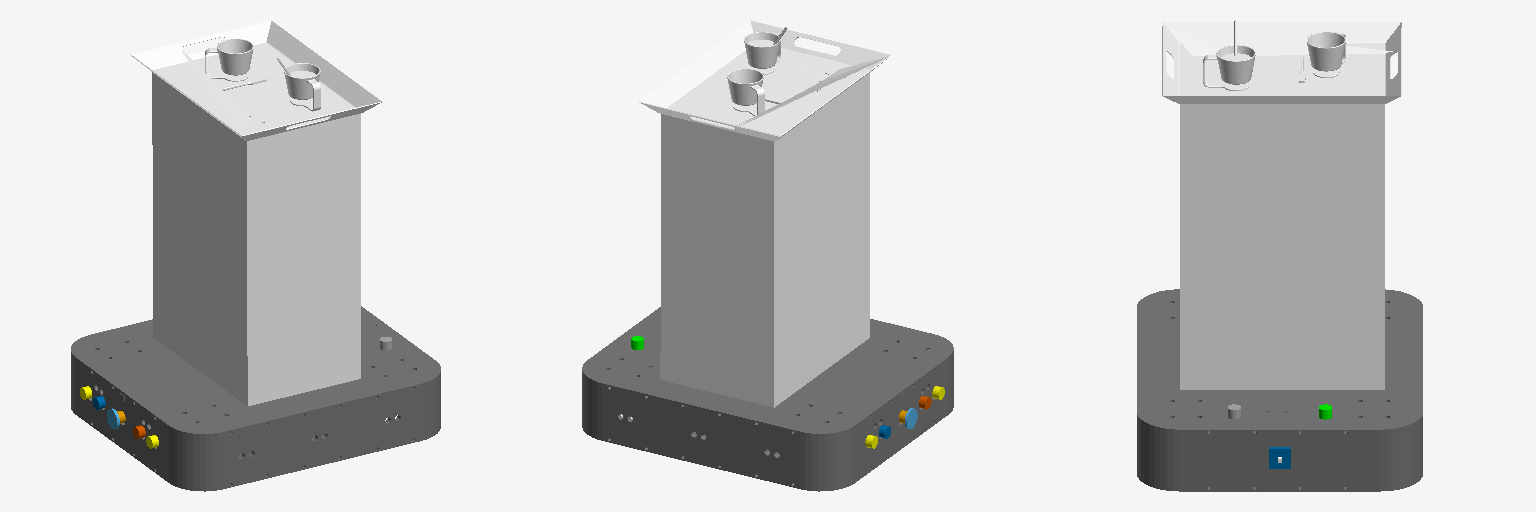
--- What the picture shows (computed from the rendered views, not written in the file) ---
3 views of the same robot in one strip: view 1: azimuth 30°, elevation 25°; view 2: azimuth 150°, elevation 25°; view 3: azimuth 270°, elevation 25° (orthographic).
Robot: DrSina — 31 links, 30 joints (10 continuous, 20 fixed); root link base_footprint; default pose: all joints at 0.
Visible links, largest first — view 1: upper_part_link, base_link; view 2: upper_part_link, base_link; view 3: upper_part_link, base_link.
Link boxes in pixels (box(x1,y1,x2,y2)): upper_part_link: box(131, 20, 381, 405); base_link: box(71, 306, 440, 491); upper_part_link: box(639, 20, 891, 407); base_link: box(582, 307, 953, 491); upper_part_link: box(1162, 20, 1401, 389); base_link: box(1137, 289, 1422, 491).
Size in the robot's own frame: 0.7805 by 0.63 by 0.9746 metres.
2 mesh visuals loaded from 7 distinct referenced files (1 binary STL, 1 Collada DAE); not drawn: 15 (reference not matched to a file when rendering).

The robot description file, URDF, robot "DrSina":
<?xml version="1.0"?>
<robot name="DrSina">

    <gazebo>
        <plugin name="gazebo_ros_control" filename="libgazebo_ros_control.so">
            <robotNamespace>/drsina</robotNamespace>
            <legacyModeNS>true</legacyModeNS>
        </plugin>
    </gazebo>
    <material name="yellow">
                <color rgba="1.0 1.0 0 1.0"/>
    </material>

    <material name="green">
                <color rgba="0.0 1.0 0 1.0"/>
    </material>

    <material name="white">
                <color rgba="1.0 1.0 1.0 1.0"/>
    </material>

<!--base and wheels-->
    
    <link name="base_link">

        <visual>
            <origin rpy="0.0 0 0" xyz="0 0 0"/>
            <geometry>
                <mesh filename="package://drsina_description/models/meshes/chassis2.dae"/>
            </geometry>
            <material name="grey"/>
        </visual>
        <collision>
             <origin rpy="0.0 0 0" xyz="0 0 0"/>
            <geometry>
                <box size="0.750  0.750 0.180"/>
            </geometry>
            <material name="grey"/>
        </collision>
        <inertial>
            <origin xyz="0.0 0.0 0.0" rpy="0.0 0.0 0.0"/>
            <mass value="28.798"/>
            <inertia ixx="15.17158" ixy="0.11133" ixz="-15.7747" iyy="1.61587" iyz="-10.583956" izz="1.3014955"/>
        </inertial>
        
	</link>
    <link name="base_footprint"/>
    <joint name="base_joint" type="fixed">
        <origin xyz="0.0 0.0 0.0" rpy="0.0 0.0 0.0"/>
        <parent link="base_footprint"/>
        <child link="base_link"/>
    </joint>

    

    <link name="Rwheel_link">
        <visual>
            <origin rpy="0 0 0" xyz="0.0 0.0 0.0"/>
            <geometry>
                <mesh filename="package://drsina_description/models/meshes/robotwheel.dae" />
            </geometry>
           
        </visual>
        <collision>
            <origin rpy="0 1.5707 1.5707" xyz="0.0 0.0 0.0"/>
            <geometry>
                <cylinder radius="0.075" length="0.03"/>
            </geometry>
        </collision>
        <inertial>
            <origin xyz="0.0 0.0 0.0" rpy="0.0 0.0 0.0"/>
            <mass value="0.58215"/>
            <inertia ixx="0.0009071" ixy="0.0" ixz="0.0" iyy="0.000907" iyz="0.0" izz="0.00169379"/>
        </inertial>
        
    </link>

    <link name="Lwheel_link">

        <visual>
            <origin rpy="0 0 3.141592" xyz="0 0 0"/>
            <geometry>
                <mesh filename="package://drsina_description/models/meshes/robotwheel.dae" />
            </geometry>
            
        </visual>
        <collision>
            <origin rpy="0 1.5707 1.5707" xyz="0 0 0"/>
            <geometry>
                <cylinder radius="0.075" length="0.03"/>
            </geometry>
        </collision>
        <inertial>
            <origin rpy="0 0 3.141592" xyz="0 0 0"/>
            <mass value="0.58215"/>
            <inertia ixx="0.0009071" ixy="0.0" ixz="0.0" iyy="0.000907" iyz="0.0" izz="0.00169379"/>
        </inertial>
        
    </link>

    <joint name="roll_jointR" type="continuous">
    	<parent link="base_link"/>
    	<child link="Rwheel_link"/>
        <origin xyz="-0.0019 -0.235 -0.0238" rpy="0 0 0"/>
        <limit effort="100" velocity="1"/>
        <axis xyz="0 1 0"/>
	</joint>

    <joint name="roll_jointL" type="continuous">
    	<parent link="base_link"/>
    	<child link="Lwheel_link"/>
        <origin xyz="-0.0019 0.235 -0.0238" rpy="0 0 0"/>
        <limit effort="100" velocity="1"/>
        <axis xyz="0 1 0"/>
	</joint>


<!-- castle Wheel right Backward-->
    <link name="RBcastlewheel_link">

        <visual>
            <origin rpy="0 0 1.570796" xyz="-0.25761 -0.2065 0.027"/>
            <geometry>
                <mesh filename="package://drsina_description/models/meshes/topcastlewheel.dae" />
            </geometry>
        
        </visual>
        <collision>
            <origin rpy="0 0 1.570796" xyz="-0.25761 -0.2065 0.027"/>
            <geometry>
                <box size="0.085 0.105 0.004"/>
            </geometry>
        </collision>
        <inertial>
            <origin rpy="0 0 1.570796" xyz="-0.25761 -0.2065 0.027"/>
            <mass value="0.12357"/>
            <inertia ixx="0.000127981" ixy="0.0" ixz="0.0" iyy="0.0002017879" iyz="0.0" izz="0.00007943143"/>
        </inertial>
    </link>

    <joint name="roll_jointcastleRB" type="fixed">
    	<parent link="base_link"/>
    	<child link="RBcastlewheel_link"/>
        <origin xyz="0.0 0 0.0" rpy="0 0 0"/>
	</joint>

    <link name="middlecastlewheelRB_link">

        <visual>
            <origin xyz="0.0 0 0.0" rpy="0 0 0"/>
            <!-- <origin rpy="0 0 1.570796" xyz="0 0 0"/> -->
            <geometry>
                <mesh filename="package://drsina_description/models/meshes/middlecastkewheel.dae" />
            </geometry>
        
        </visual>
        <collision>
            <origin xyz="0.0 0 0.0" rpy="0 0 0"/>
            <!-- <origin rpy="0 0 1.570796" xyz="0 0 0"/> -->
            <geometry>
                <mesh filename="package://drsina_description/models/meshes/middlecastkewheel.dae" />
            </geometry>
        
        </collision>
        <inertial>
            <origin xyz="0.0 0.0 0.0" rpy="0.0 0.0 0.0"/>
            <mass value="0.37662"/>
            <inertia ixx="0.00058885" ixy="0.000005035" ixz="0.0000023726" iyy="0.000391256" iyz="0.000171932" izz="0.000560966"/>
        </inertial>
        
    </link>

    <joint name="roll_jointmiddlecastleRB" type="continuous">
    	<parent link="RBcastlewheel_link"/>
    	<child link="middlecastlewheelRB_link"/>
        <origin rpy="0 0 1.570796" xyz="-0.25761 -0.2065 0.027"/>
        <limit effort="1000" velocity="1"/>
        <calibration rising="0.0"/>
        <axis xyz="0 0 1"/>
	</joint>

    <link name="castlewheel_wheelRBlink">

        <visual>
            <origin xyz="0.0 0 0.0" rpy="0 0 0"/>
            <geometry>
                <mesh filename="package://drsina_description/models/meshes/castlewheel.dae" />
            </geometry>
        
        </visual>
        <collision>
            <origin xyz="0.0 0 0.0" rpy="0 1.5707 0"/>
            <geometry>
                <cylinder radius="0.05" length="0.035"/>
            </geometry>
        
        </collision>
        <inertial>
            <origin xyz="0.0 0.0 0.0" rpy="0.0 0.0 0.0"/>
            <mass value="0.194"/>
            <inertia ixx="0.001469129" ixy="0.0" ixz="0.0" iyy="0.000363130" iyz="0.000468682" izz="0.001135254"/>
        </inertial>
        
    </link>

    <joint name="roll_jointcastlewheelRB" type="continuous">
    	<parent link="middlecastlewheelRB_link"/>
    	<child link="castlewheel_wheelRBlink"/>
        <!-- <origin rpy="0 0 1.570796" xyz="-0.2890 -0.2065 -0.048"/> -->
        <origin xyz="0 0.03239 -0.075" rpy="0 0 0"/>
        <limit effort="1000" velocity="1"/>
        <calibration rising="0.0"/>
        <axis xyz="1 0 0"/>
	</joint>

<!--  -->


<!-- castle Wheel right Forward-->
    <link name="RFcastlewheel_link">

        <visual>
            <origin rpy="0 0 1.570796" xyz="0.25761 -0.2065 0.027"/>
            <geometry>
                <mesh filename="package://drsina_description/models/meshes/topcastlewheel.dae" />
            </geometry>
        
        </visual>
        <collision>
            <origin rpy="0 0 1.570796" xyz="0.25761 -0.2065 0.027"/>
            <geometry>
                <box size="0.085 0.105 0.004"/>
            </geometry>
        
        </collision>
        <inertial>
            <origin rpy="0 0 1.570796" xyz="0.25761 -0.2065 0.027"/>
            <mass value="0.12357"/>
            <inertia ixx="0.000127981" ixy="0.0" ixz="0.0" iyy="0.0002017879" iyz="0.0" izz="0.00007943143"/>
        </inertial>
        
    </link>

    <joint name="roll_jointcastleRF" type="fixed">
    	<parent link="base_link"/>
    	<child link="RFcastlewheel_link"/>
        <origin xyz="0.0 0 0.0" rpy="0 0 0"/>
	</joint>


    <link name="middlecastlewheelRF_link">

        <visual>
            <origin xyz="0.0 0 0.0" rpy="0 0 0"/>
            <geometry>
                <mesh filename="package://drsina_description/models/meshes/middlecastkewheel.dae" />
            </geometry>
        
        </visual>
        <collision>
            <origin xyz="0.0 0 0.0" rpy="0 0 0"/>
            <geometry>
                <mesh filename="package://drsina_description/models/meshes/middlecastkewheel.dae" />
            </geometry>
        </collision>
         <inertial>
            <origin xyz="0.0 0.0 0.0" rpy="0.0 0.0 0.0"/>
            <mass value="0.37662"/>
            <inertia ixx="0.00058885" ixy="0.000005035" ixz="0.0000023726" iyy="0.000391256" iyz="0.000171932" izz="0.000560966"/>
        </inertial>
        
    </link>

    <joint name="roll_jointmiddlecastleRF" type="continuous">
    	<parent link="RFcastlewheel_link"/>
    	<child link="middlecastlewheelRF_link"/>
        <origin rpy="0 0 1.570796" xyz="0.25761 -0.2065 0.027"/>
        <limit effort="1000" velocity="1"/>
        <calibration rising="0.0"/>
        <axis xyz="0 0 1"/>
	</joint>

    <link name="castlewheel_wheelRFlink">

        <visual>
            <origin xyz="0.0 0 0.0" rpy="0 0 0"/>
            <geometry>
                <mesh filename="package://drsina_description/models/meshes/castlewheel.dae" />
            </geometry>
        
        </visual>
        <collision>
            <origin xyz="0.0 0 0.0" rpy="0 1.5707 0"/>
            <geometry>
                <cylinder radius="0.05" length="0.035"/>
            </geometry>
        </collision>
        <inertial>
            <origin xyz="0.0 0.0 0.0" rpy="0.0 0.0 0.0"/>
            <mass value="0.194"/>
            <inertia ixx="0.001469129" ixy="0.0" ixz="0.0" iyy="0.000363130" iyz="0.000468682" izz="0.001135254"/>
        </inertial>
    </link>

    <joint name="roll_jointcastlewheelRF" type="continuous">
    	<parent link="middlecastlewheelRF_link"/>
    	<child link="castlewheel_wheelRFlink"/>
        <!-- <origin rpy="0 0 1.570796" xyz="0.2240 -0.2065 -0.048"/> -->
        <origin xyz="0 0.03239 -0.076" rpy="0 0 0"/>
        <limit effort="1000" velocity="1"/>
        <calibration rising="0.0"/>
        <axis xyz="1 0 0"/>
	</joint>
<!--  -->


<!-- castle Wheel Left Forward-->
    <link name="LFcastlewheel_link">

        <visual>
            <origin rpy="0 0 1.570796" xyz="0.25761 0.2065 0.027"/>
            <geometry>
                <mesh filename="package://drsina_description/models/meshes/topcastlewheel.dae" />
            </geometry>
        
        </visual>
        <collision>
            <origin rpy="0 0 1.570796" xyz="0.25761 0.2065 0.027"/>
            <geometry>
                <box size="0.085 0.105 0.004"/>
            </geometry>
        
        </collision>
        <inertial>
            <origin rpy="0 0 1.570796" xyz="0.25761 0.2065 0.027"/>
            <mass value="0.12357"/>
            <inertia ixx="0.000127981" ixy="0.0" ixz="0.0" iyy="0.0002017879" iyz="0.0" izz="0.00007943143"/>
        </inertial>
    </link>

    <joint name="roll_jointcastleLF" type="fixed">
    	<parent link="base_link"/>
    	<child link="LFcastlewheel_link"/>
        <origin xyz="0.0 0 0.0" rpy="0 0 0"/>
	</joint>

    <link name="middlecastlewheelLF_link">

        <visual>
            <origin xyz="0.0 0 0.0" rpy="0 0 0"/>
            <geometry>
                <mesh filename="package://drsina_description/models/meshes/middlecastkewheel.dae" />
            </geometry>
        
        </visual>
        <collision>
            <origin xyz="0.0 0 0.0" rpy="0 0 0"/>
            <geometry>
                <mesh filename="package://drsina_description/models/meshes/middlecastkewheel.dae" />
            </geometry>
        </collision>
         <inertial>
            <origin xyz="0.0 0.0 0.0" rpy="0.0 0.0 0.0"/>
            <mass value="0.37662"/>
            <inertia ixx="0.00058885" ixy="0.000005035" ixz="0.0000023726" iyy="0.000391256" iyz="0.000171932" izz="0.000560966"/>
        </inertial>
        
    </link>

    <joint name="roll_jointmiddlecastleLF" type="continuous">
    	<parent link="LFcastlewheel_link"/>
    	<child link="middlecastlewheelLF_link"/>
        <origin rpy="0 0 1.570796" xyz="0.25761 0.2065 0.027"/>
        <limit effort="1000" velocity="1"/>
        <calibration rising="0.0"/>
        <axis xyz="0 0 1"/>
	</joint>

    <link name="castlewheel_wheelLFlink">

        <visual>
            <origin xyz="0.0 0 0.0" rpy="0 0 0"/>
            <geometry>
                <mesh filename="package://drsina_description/models/meshes/castlewheel.dae" />
            </geometry>

        </visual>
        <collision>
            <origin xyz="0.0 0 0.0" rpy="0 1.5707 0"/>
            <geometry>
                <cylinder radius="0.05" length="0.035"/>
            </geometry>

        </collision>
        <inertial>
            <origin xyz="0.0 0.0 0.0" rpy="0.0 0.0 0.0"/>
            <mass value="0.194"/>
            <inertia ixx="0.001469129" ixy="0.0" ixz="0.0" iyy="0.000363130" iyz="0.000468682" izz="0.001135254"/>
        </inertial>
    </link>

    <joint name="roll_jointcastlewheelLF" type="continuous">
    	<parent link="middlecastlewheelLF_link"/>
    	<child link="castlewheel_wheelLFlink"/>
        <origin  xyz="0 0.03239 -0.076" rpy="0 0 0"/>
        <limit effort="1000" velocity="1"/>
        <calibration rising="0.0"/>
        <axis xyz="1 0 0"/>
	</joint>
<!--  -->
    

<!-- castle Wheel Left Backward-->
    <link name="LBcastlewheel_link">

        <visual>
            <origin rpy="0 0 1.570796" xyz="-0.25761 0.2065 0.027"/>
            <geometry>
                <mesh filename="package://drsina_description/models/meshes/topcastlewheel.dae" />
            </geometry>
        
        </visual>
        <collision>
            <origin rpy="0 0 1.570796" xyz="-0.25761 0.2065 0.027"/>
            <geometry>
                <box size="0.085 0.105 0.004"/>
            </geometry>
        
        </collision>
        <inertial>
            <origin rpy="0 0 1.570796" xyz="-0.25761 0.2065 0.027"/>
            <mass value="0.12357"/>
            <inertia ixx="0.000127981" ixy="0.0" ixz="0.0" iyy="0.0002017879" iyz="0.0" izz="0.00007943143"/>
        </inertial>
    </link>

    <joint name="roll_jointcastleLB" type="fixed">
    	<parent link="base_link"/>
    	<child link="LBcastlewheel_link"/>
        <origin xyz="0.0 0 0.0" rpy="0 0 0"/>
	</joint>
 
    <link name="middlecastlewheelLB_link">

        <visual>
            <origin xyz="0.0 0 0.0" rpy="0 0 0"/>
            <geometry>
                <mesh filename="package://drsina_description/models/meshes/middlecastkewheel.dae" />
            </geometry>
        
        </visual>
        <collision>
            <origin xyz="0.0 0 0.0" rpy="0 0 0"/>
            <geometry>
                <mesh filename="package://drsina_description/models/meshes/middlecastkewheel.dae" />
            </geometry>
        
        </collision>
         <inertial>
            <origin xyz="0.0 0.0 0.0" rpy="0.0 0.0 0.0"/>
            <mass value="0.37662"/>
            <inertia ixx="0.00058885" ixy="0.000005035" ixz="0.0000023726" iyy="0.000391256" iyz="0.000171932" izz="0.000560966"/>
        </inertial>
        
    </link>

    <joint name="roll_jointmiddlecastleLB" type="continuous">
    	<parent link="LBcastlewheel_link"/>
    	<child link="middlecastlewheelLB_link"/>
        <origin rpy="0 0 1.570796" xyz="-0.25761 0.2065 0.027"/>
        <limit effort="1000" velocity="1"/>
        <calibration rising="0.0"/>
        <axis xyz="0 0 1"/>
	</joint>

    <link name="castlewheel_wheelLBlink">

        <visual>
            <origin xyz="0.0 0 0.0" rpy="0 0 0"/>
            <geometry>
                <mesh filename="package://drsina_description/models/meshes/castlewheel.dae" />
            </geometry>
        
        </visual>
        <collision>
            <origin xyz="0.0 0 0.0" rpy="0 1.5707 0"/>
            <geometry>
                <cylinder radius="0.05" length="0.035"/>
            </geometry>
        
        </collision>
        <inertial>
            <origin xyz="0.0 0.0 0.0" rpy="0.0 0.0 0.0"/>
            <mass value="0.194"/>
            <inertia ixx="0.001469129" ixy="0.0" ixz="0.0" iyy="0.000363130" iyz="0.000468682" izz="0.001135254"/>
        </inertial>
    </link>

    <joint name="roll_jointcastlewheelLB" type="continuous">
    	<parent link="middlecastlewheelLB_link"/>
    	<child link="castlewheel_wheelLBlink"/>
        <origin xyz="0 0.03239 -0.075" rpy="0 0 0"/>
        <limit effort="1000" velocity="1"/>
        <calibration rising="0.0"/>
        <axis xyz="1 0 0"/>
	</joint>
<!--  -->

<!-- Light indicator -->

    <link name="emergencyButton_link">

        <visual>
            <origin rpy="0 -1.570796 0" xyz="-0.360 0 0"/>
            <geometry>
                <cylinder radius="0.015" length="0.063" />
            </geometry>
        
        </visual>
        <collision>
            <origin rpy="0 -1.570796 0" xyz="-0.360 0 0"/>
            <geometry>
                <cylinder radius="0.015" length="0.063" />
            </geometry>
        
        </collision>
        <inertial>
            <origin rpy="0 -1.570796 0" xyz="-0.360 0 0"/>
            <mass value="0.024"/>
            <inertia ixx="0.000014158" ixy="0.0" ixz="0.0" iyy="0.000014218" iyz="0.000001560" izz="0.000004097"/>
        </inertial>
        
    </link>

    <link name="emergencyButton2_link">

        <visual>
            <origin rpy="0 -1.570796 0" xyz="-0.390 0 0"/>
            <geometry>
                <cylinder radius="0.025" length="0.007" />
            </geometry>
        
        </visual>
        <collision>
            <origin rpy="0 -1.570796 0" xyz="-0.390 0 0"/>
            <geometry>
                <cylinder radius="0.025" length="0.007" />
            </geometry>
        
        </collision>
        <inertial>
            <origin rpy="0 -1.570796 0" xyz="-0.360 0 0"/>
            <mass value="0.024"/>
            <inertia ixx="0.000014158" ixy="0.0" ixz="0.0" iyy="0.000014218" iyz="0.000001560" izz="0.000004097"/>
        </inertial>
        
    </link>

    <joint name="emergencyButton2_joint" type="fixed">
    	<parent link="emergencyButton_link"/>
    	<child link="emergencyButton2_link"/>
        <origin xyz="0 0 0" rpy="0 0 0"/>
	</joint>

    <joint name="emergencyButton_joint" type="fixed">
    	<parent link="base_link"/>
    	<child link="emergencyButton_link"/>
        <origin xyz="0 0 0" rpy="0 0 0"/>
	</joint>


    <link name="yellowligthR_link">

        <visual>
            <origin rpy="0 -1.570796 0" xyz="-0.365 0.158 0"/>
            <geometry>
                <cylinder radius="0.015" length="0.035" />
            </geometry>
            <material name="yellow">
            </material>
        </visual>
        <collision>
            <origin rpy="0 -1.570796 0" xyz="-0.365 0.158 0"/>
            <geometry>
                <cylinder radius="0.029" length="0.035" />
            </geometry>
        
        </collision>
        <inertial>
            <origin rpy="0 -1.570796 0" xyz="-0.365 0.158 0"/>
            <mass value="0.013"/>
            <inertia ixx="0.000001335" ixy="0.0" ixz="0.0" iyy="0.000001112" iyz="0.0" izz="0.000001335"/>
        </inertial>
        
    </link>

    <joint name="yellowligthR_joint" type="fixed">
    	<parent link="base_link"/>
    	<child link="yellowligthR_link"/>
        <origin xyz="0 0 0" rpy="0 0 0"/>  
	</joint>

    <link name="yellowligthL_link">

        <visual>
            <origin rpy="0 -1.570796 0" xyz="-0.365 -0.158 0"/>
            <geometry>
                <cylinder radius="0.015" length="0.035" />
            </geometry>
            <material name="yellow">
            </material> 
        </visual>
        <collision>
            <origin rpy="0 -1.570796 0" xyz="-0.365 -0.158 0"/>
            <geometry>
                <cylinder radius="0.015" length="0.035" />
            </geometry>
        
        </collision>
        <inertial>
            <origin rpy="0 -1.570796 0" xyz="-0.365 -0.158 0"/>
            <mass value="0.013"/>
            <inertia ixx="0.000001335" ixy="0.0" ixz="0.0" iyy="0.000001112" iyz="0.0" izz="0.000001335"/>
        </inertial>
        
    </link>

    <joint name="yellowligthL_joint" type="fixed">
    	<parent link="base_link"/>
    	<child link="yellowligthL_link"/>
        <origin xyz="0 0 0" rpy="0 0 0"/>  
	</joint>


    <link name="redligthR_link">

        <visual>
            <origin rpy="0 -1.570796 0" xyz="-0.365 0.095 0"/>
            <geometry>
                <cylinder radius="0.015" length="0.035" />
            </geometry>
        
        </visual>
        <collision>
            <origin rpy="0 -1.570796 0" xyz="-0.365 0.095 0"/>
            <geometry>
                <cylinder radius="0.015" length="0.035" />
            </geometry>
        
        </collision>
        <inertial>
            <origin rpy="0 -1.570796 0" xyz="-0.365 0.095 0"/>
            <mass value="0.013"/>
            <inertia ixx="0.000001335" ixy="0.0" ixz="0.0" iyy="0.000001112" iyz="0.0" izz="0.000001335"/>
        </inertial>
    </link>

    <joint name="redligthR_joint" type="fixed">
    	<parent link="base_link"/>
    	<child link="redligthR_link"/>
        <origin xyz="0 0 0" rpy="0 0 0"/>  
	</joint>

    <link name="redligthL_link">

        <visual>
            <origin rpy="0 -1.570796 0" xyz="-0.365 -0.095 0"/>
            <geometry>
                <cylinder radius="0.015" length="0.035" />
            </geometry>
        
        </visual>
        <collision>
            <origin rpy="0 -1.570796 0" xyz="-0.365 -0.095 0"/>
            <geometry>
                <cylinder radius="0.015" length="0.035" />
            </geometry>
        
        </collision>
        <inertial>
            <origin rpy="0 -1.570796 0" xyz="-0.365 -0.095 0"/>
            <mass value="0.013"/>
            <inertia ixx="0.000001335" ixy="0.0" ixz="0.0" iyy="0.000001112" iyz="0.0" izz="0.000001335"/>
        </inertial>
    </link>

    <joint name="redligthL_joint" type="fixed">
    	<parent link="base_link"/>
    	<child link="redligthL_link"/>
        <origin xyz="0 0 0" rpy="0 0 0"/>  
	</joint>

<!--  -->

<!-- green button -->
    <link name="greenButton_link">

        <visual>
            <origin rpy="0 0 0" xyz="0.298 0.1001 0.075"/>
            <geometry>
                <cylinder radius="0.015" length="0.027" />
            </geometry>
            <material name="green">
            </material>
        
        </visual>
        <collision>
            <origin rpy="0 0 0" xyz="0.298 0.1001 0.075"/>
            <geometry>
                <cylinder radius="0.015" length="0.027" />
            </geometry>
        
        </collision>
        <inertial>
            <origin rpy="0 0 0" xyz="0.298 0.1001 0.075"/>
            <mass value="0.009"/>
            <inertia ixx="0.000048877" ixy="0.000004137" ixz="0.000007347" iyy="0.000039205" iyz="0.000019882" izz="0.000013807"/>
        </inertial>
    </link>

    <joint name="greenButton_joint" type="fixed">
    	<parent link="base_link"/>
    	<child link="greenButton_link"/>
        <origin xyz="0 0 0" rpy="0 0 0"/>  
	</joint>
<!--  -->

<!-- red Button -->
    <link name="redButton_link">   

        <visual>
            <origin rpy="0 0 0" xyz="0.298 -0.1001 0.075"/>
            <geometry>
               <cylinder radius="0.015" length="0.027" />
            </geometry>
        
        </visual>
        <collision>
            <origin rpy="0 0 0" xyz="0.298 -0.1001 0.075"/>
            <geometry>
                <cylinder radius="0.015" length="0.027" />
            </geometry>
        
        </collision>
        <inertial>
            <origin rpy="0 0 0" xyz="0.298 -0.1001 0.075"/>
            <mass value="0.009"/>
            <inertia ixx="0.000048877" ixy="0.000004137" ixz="0.000007347" iyy="0.000039205" iyz="0.000019882" izz="0.000013807"/>
        </inertial>
    </link>

    <joint name="redButton_joint" type="fixed">
    	<parent link="base_link"/>
    	<child link="redButton_link"/>
        <origin xyz="0 0 0" rpy="0 0 0"/>  
	</joint>
<!--  -->
<!-- lidar  -->
    <link name="lidar_link">

        <visual>
            <origin xyz="0 0 0" rpy="0 0 0"/> 
            <geometry>
                <mesh filename="package://drsina_description/models/meshes/lidarhukuyo.dae" />
            </geometry>
        
        </visual>
        <collision>
            <origin rpy="0 0 0" xyz="0 0 0"/>
            <geometry>
                <mesh filename="package://drsina_description/models/meshes/lidarhukuyo.dae" />
            </geometry>
        
        </collision>
        <inertial>
            <origin xyz="0.0 0.0 0.0" rpy="0.0 0.0 0.0"/>
            <mass value="0.073"/>
            <inertia ixx="0.0418344" ixy="-0.00427706" ixz="-0.000766149" iyy="0.001823843" iyz="0.007260811" izz="0.041013051"/>
        </inertial>
        
    </link>

    <joint name="lidar_joint" type="fixed">
    	<parent link="base_link"/>
    	<child link="lidar_link"/>
        <origin rpy="0 0 0" xyz="0.303 -0.006 0.1"/>
         
	</joint>
<!--  -->

     <link name="ultrasonic_sensor_right1">
        <visual>
            <origin rpy="0 0 0" xyz="0.0 0.0 0.0"/>
            <geometry>
                <box size="0.043 0.02 0.015" />
            </geometry>
           <material name="white">
                <color rgba="0.5 0.5 0.5 1.0"/>
            </material>
        </visual>
        <collision>
            <origin rpy="0 0 0" xyz="0.0 0.0 0.0"/>
            <geometry>
                <box size="0.043 0.02 0.015" />
            </geometry>
        </collision>
        <inertial>
            <origin xyz="0.0 0.0 0.0" rpy="0.0 0.0 0.0"/>
            <mass value="0.053"/>
            <inertia ixx="0.0418344" ixy="-0.00427706" ixz="-0.000766149" iyy="0.001823843" iyz="0.007260811" izz="0.041013051"/>
        </inertial>
        
    </link>

    <joint name="ultrasonic_sensor_right1_joint" type="fixed">
    	<parent link="base_link"/>
    	<child link="ultrasonic_sensor_right1"/>
        <origin rpy="0 0 1.570796" xyz="0.005 0.290 0.0"/>
         
	</joint>



    <link name="ultrasonic_sensor_left1">
        <visual>
            <origin rpy="0 0 0" xyz="0.0 0.0 0.0"/>
            <geometry>
                <box size="0.043 0.02 0.015" />
            </geometry>
           <material name="white">
                <color rgba="0.5 0.5 0.5 1.0"/>
            </material>
        </visual>
        <collision>
            <origin rpy="0 0 0" xyz="0.0 0.0 0.0"/>
            <geometry>
                <box size="0.043 0.02 0.015" />
            </geometry>
        </collision>
        <inertial>
            <origin xyz="0.0 0.0 0.0" rpy="0.0 0.0 0.0"/>
            <mass value="0.053"/>
            <inertia ixx="0.0418344" ixy="-0.00427706" ixz="-0.000766149" iyy="0.001823843" iyz="0.007260811" izz="0.041013051"/>
        </inertial>
    </link>

    <joint name="ultrasonic_sensor_left1_joint" type="fixed">
    	<parent link="base_link"/>
    	<child link="ultrasonic_sensor_left1"/>
        <origin rpy="0 0 -1.570796" xyz="0.005 -0.290 0.0"/>
         
	</joint>

    <link name="ultrasonic_sensor_back1">
        <visual>
            <origin rpy="0 0 0" xyz="0.0 0.0 0.0"/>
            <geometry>
                <box size="0.043 0.02 0.015" />
            </geometry>
           <material name="white">
                <color rgba="0.5 0.5 0.5 1.0"/>
            </material>
        </visual>
        <collision>
            <origin rpy="0 0 0" xyz="0.0 0.0 0.0"/>
            <geometry>
                <box size="0.043 0.02 0.015" />
            </geometry>
        </collision>
        <inertial>
            <origin xyz="0.0 0.0 0.0" rpy="0.0 0.0 0.0"/>
            <mass value="0.053"/>
            <inertia ixx="0.0418344" ixy="-0.00427706" ixz="-0.000766149" iyy="0.001823843" iyz="0.007260811" izz="0.041013051"/>
        </inertial>
    </link>

    <joint name="ultrasonic_sensor_back1_joint" type="fixed">
    	<parent link="base_link"/>
    	<child link="ultrasonic_sensor_back1"/>
        <origin rpy="0 0 3.142" xyz="-0.345 0 0.05"/>
         
	</joint>

    

  <!-- Camera -->
  <link name="camera_link">
    <collision>
      <origin xyz="0 0 0" rpy="0 0 0"/>
      <geometry>
    <box size="0.01 0.05 0.05"/>
      </geometry>
    </collision>

    <visual>
      <origin xyz="0 0 0" rpy="0 0 0"/>
      <geometry>
        <box size="0.01 0.05 0.05"/>
      </geometry>
      <material name="red"/>
    </visual>

    <inertial>
      <mass value="1e-5" />
      <origin xyz="0 0 0" rpy="0 0 0"/>
      <inertia ixx="1e-6" ixy="0.5e-6" ixz="0.5e-6" iyy="1e-6" iyz="0.5e-6" izz="1e-6" />
    </inertial>
  </link>

  <joint name="camera_joint" type="fixed">
    <parent link="base_link"/>
    <child link="camera_link"/>
    <origin xyz="0.372 0 0" rpy="0 0 0"/>
  </joint>

  <link name="camera_offset">
    <visual>
      <origin xyz="0 0 0" rpy="0 0 0"/>
      <geometry>
        <box size="0.01 0.01 0.01"/>
      </geometry>
      <material name="white"/>
    </visual>
  </link>

  <joint name="camera_offset_joint" type="fixed">
    <parent link="camera_link"/>
    <child link="camera_offset"/>
    <origin xyz="0.01 0 0" rpy="0 0 0"/>
  </joint>

<!-- Robot_upper_part -->
    <link name="upper_part_link">
        <visual>
            <origin rpy="1.57 0 1.57" xyz="0 0 0"/>
            <geometry>
                <mesh filename="package://resto_robot/models/meshes/plateaupart.stl" />
            </geometry>
           <material name="whitec">
                <color rgba="1.0 1.0 1.0 1.0"/>
            </material>
        </visual>
        <collision>
            <origin rpy="1.57 0 1.57" xyz="0.0 0.0 0.0"/>
            <geometry>
                <mesh filename="package://resto_robot/models/meshes/plateaupart.stl" />
            </geometry>
        </collision>
        <inertial>
            <origin xyz="0.0 0.0 0.0" rpy="0.0 0.0 0.0"/>
            <mass value="6.017"/>
            <inertia ixx="1.454597423" ixy="0.526809639" ixz="0.204454096" iyy="0.712159173" iyz="0.358859560" izz="1.694490412"/>
        </inertial>
    </link>

    <joint name="upper_part_joint" type="fixed">
    	<parent link="base_link"/>
    	<child link="upper_part_link"/>
        <origin rpy="0 0 0" xyz="-0.15 -0.22 0.06"/>
         
	</joint>

<!--gazbo config-->   
      <gazebo reference="Rwheel_link">
	    <mu1>20000000000.0</mu1>
	    <mu2>20000000000.0</mu2>
	    <kp>1000000.0</kp>
	    <kd>1.0</kd>
	  </gazebo>
	
	  <gazebo reference="Lwheel_link">
	    <mu1>20000000000.0</mu1>
	    <mu2>20000000000.0</mu2>
	    <kp>1000000.0</kp>
	    <kd>1.0</kd>
	  </gazebo>
	  
	  <gazebo reference="castlewheel_wheelRBlink">
	    <mu1>20000000000.0</mu1>
	    <mu2>20000000000.0</mu2>
	    <kp>1000000.0</kp>
	    <kd>1.0</kd>
	  </gazebo>
	  
	  <gazebo reference="castlewheel_wheelLBlink">
	    <mu1>20000000000.0</mu1>
	    <mu2>20000000000.0</mu2>
	    <kp>1000000.0</kp>
	    <kd>1.0</kd>
	  </gazebo>
      <gazebo reference="castlewheel_wheelRFlink">
	    <mu1>20000000000.0</mu1>
	    <mu2>20000000000.0</mu2>
	    <kp>1000000.0</kp>
	    <kd>1.0</kd>
	  </gazebo>
	  
	  <gazebo reference="castlewheel_wheelLFlink">
	    <mu1>20000000000.0</mu1>
	    <mu2>20000000000.0</mu2>
	    <kp>1000000.0</kp>
	    <kd>1.0</kd>
	  </gazebo>

      <gazebo reference="emergencyButton_link">
	    <material>Gazebo/Red</material>
	  </gazebo>
      <gazebo reference="emergencyButton2_link">
	    <material>Gazebo/Red</material>
	  </gazebo>
      <gazebo reference="redButton_link">
	    <material>Gazebo/Red</material>
	  </gazebo>
      <gazebo reference="redligthL_link">
	    <material>Gazebo/Red</material>
	  </gazebo>
      <gazebo reference="redligthR_link">
	    <material>Gazebo/Red</material>
	  </gazebo>
      <gazebo reference="yellowligthL_link">
	    <material>Gazebo/Yellow</material>
	  </gazebo>
      <gazebo reference="yellowligthR_link"> 
	    <material>Gazebo/Yellow</material>
	  </gazebo>
      <gazebo reference="greenButton_link">
	    <material>Gazebo/Green</material>
	  </gazebo>

      <gazebo reference="camera_link">
	    <material>Gazebo/Black</material>
	  </gazebo>
        
<gazebo reference="lidar_link">
    <sensor type="ray" name="head_hokuyo_sensor">
      <pose>0 0 0 0 0 0</pose>
      <visualize>false</visualize>
      <update_rate>40</update_rate>
      <ray>
        <scan>
          <horizontal>
            <samples>720</samples>
            <resolution>1</resolution>
            <min_angle>-0.870796</min_angle>
            <max_angle>0.870796</max_angle>
          </horizontal>
        </scan>
        <range>
          <min>0.10</min>
          <max>10.0</max>
          <resolution>0.01</resolution>
        </range>
        <noise>
          <type>gaussian</type>
          <mean>0.0</mean>
          <stddev>0.01</stddev>
        </noise>
      </ray>
      <plugin name="gazebo_ros_head_hokuyo_controller" filename="libgazebo_ros_laser.so">
        <topicName>/drsina/laser/scan</topicName>
        <frameName>lidar_link</frameName>
      </plugin>
    </sensor>
</gazebo>

<gazebo reference="ultrasonic_sensor_right1">
    <sensor type="ray" name="sensor_ultrasonic">
      <pose>0 0 0 0 0 0</pose>
      <visualize>false</visualize>
      <update_rate>40</update_rate>
      <ray>
        <scan>
          <horizontal>
            <samples>720</samples>
            <resolution>1</resolution>
            <min_angle>-0.4</min_angle>
            <max_angle>0.4</max_angle>
          </horizontal>
        </scan>
        <range>
          <min>0.1</min>
          <max>1.5</max>
          <resolution>0.01</resolution>
        </range>
        <noise>
          <type>gaussian</type>
          <mean>0.0</mean>
          <stddev>0.01</stddev>
        </noise>
      </ray>
      <plugin name="gazebo_ros_head_hokuyo_controller" filename="libgazebo_ros_laser.so">
        <topicName>/drsina/ultrasonic/right1/scan</topicName>
        <frameName>ultrasonic_sensor_right1</frameName>
      </plugin>
    </sensor>
</gazebo>


<gazebo reference="ultrasonic_sensor_left1">
    <sensor type="ray" name="sensor_ultrasonic_left">
      <pose>0 0 0 0 0 0</pose>
      <visualize>false</visualize>
      <update_rate>40</update_rate>
      <ray>
        <scan>
          <horizontal>
            <samples>720</samples>
            <resolution>1</resolution>
            <min_angle>-0.4</min_angle>
            <max_angle>0.4</max_angle>
          </horizontal>
        </scan>
        <range>
          <min>0.1</min>
          <max>1.5</max>
          <resolution>0.01</resolution>
        </range>
        <noise>
          <type>gaussian</type>
          <mean>0.0</mean>
          <stddev>0.01</stddev>
        </noise>
      </ray>
      <plugin name="gazebo_ros_head_hokuyo_controller" filename="libgazebo_ros_laser.so">
        <topicName>/drsina/ultrasonic/left1/scan</topicName>
        <frameName>ultrasonic_sensor_left1</frameName>
      </plugin>
    </sensor>
</gazebo>

<gazebo reference="ultrasonic_sensor_back1">
    <sensor type="ray" name="sensor_ultrasonic_back">
      <pose>0 0 0 0 0 0</pose>
      <visualize>false</visualize>
      <update_rate>40</update_rate>
      <ray>
        <scan>
          <horizontal>
            <samples>720</samples>
            <resolution>1</resolution>
            <min_angle>-0.4</min_angle>
            <max_angle>0.4</max_angle>
          </horizontal>
        </scan>
        <range>
          <min>0.1</min>
          <max>1.5</max>
          <resolution>0.01</resolution>
        </range>
        <noise>
          <type>gaussian</type>
          <mean>0.0</mean>
          <stddev>0.01</stddev>
        </noise>
      </ray>
      <plugin name="gazebo_ros_head_hokuyo_controller" filename="libgazebo_ros_laser.so">
        <topicName>/drsina/ultrasonic/back1/scan</topicName>
        <frameName>ultrasonic_sensor_back1</frameName>
      </plugin>
    </sensor>
</gazebo>

  <!-- camera -->
  <gazebo reference="camera_offset">
    <sensor type="camera" name="camera1">
      <update_rate>30.0</update_rate>
      <camera name="head">
        <horizontal_fov>1.3962634</horizontal_fov>
        <image>
          <width>800</width>
          <height>800</height>
          <format>R8G8B8</format>
        </image>
        <clip>
          <near>0.02</near>
          <far>300</far>
        </clip>
        <noise>
          <type>gaussian</type>
          <mean>0.0</mean>
          <stddev>0.007</stddev>
        </noise>
      </camera>
      <plugin name="camera_controller" filename="libgazebo_ros_camera.so">
        <alwaysOn>true</alwaysOn>
        <updateRate>0.0</updateRate>
        <cameraName>/drsina/camera1</cameraName>
        <imageTopicName>image_raw</imageTopicName>
        <cameraInfoTopicName>camera_info</cameraInfoTopicName>
        <frameName>camera_offset</frameName>
        <hackBaseline>0.07</hackBaseline>
        <distortionK1>0.0</distortionK1>
        <distortionK2>0.0</distortionK2>
        <distortionK3>0.0</distortionK3>
        <distortionT1>0.0</distortionT1>
        <distortionT2>0.0</distortionT2>
      </plugin>
    </sensor>
  </gazebo>


<gazebo>
  <plugin name="differential_drive_controller" filename="libgazebo_ros_diff_drive.so">
    <alwaysOn>true</alwaysOn>
    <legacyMode>false</legacyMode>
    <updateRate>10</updateRate>
    <leftJoint>roll_jointL</leftJoint>
    <rightJoint>roll_jointR</rightJoint>
    <wheelSeparation>0.43</wheelSeparation>
    <wheelDiameter>0.15</wheelDiameter>
    <torque>20</torque>
    <commandTopic>cmd_vel</commandTopic>
    <odometryTopic>odom</odometryTopic>
    <odometryFrame>odom</odometryFrame>
    <robotBaseFrame>base_footprint</robotBaseFrame>
  </plugin>
</gazebo>

<!--gazebo transmissions-->
  <transmission name="tran1">
    <type>transmission_interface/SimpleTransmission</type>
    <joint name="roll_jointR">
      <hardwareInterface>EffortJointInterface</hardwareInterface>
    </joint>
    <actuator name="motor1">
      <hardwareInterface>EffortJointInterface</hardwareInterface>
      <mechanicalReduction>1</mechanicalReduction>
    </actuator>
  </transmission>
  <transmission name="tran2">
    <type>transmission_interface/SimpleTransmission</type>
    <joint name="roll_jointL">
      <hardwareInterface>EffortJointInterface</hardwareInterface>
    </joint>
    <actuator name="motor2">
      <hardwareInterface>EffortJointInterface</hardwareInterface>
      <mechanicalReduction>1</mechanicalReduction>
    </actuator>
  </transmission>
  <transmission name="tran3">
    <type>transmission_interface/SimpleTransmission</type>
    <joint name="roll_jointmiddlecastleRF">
      <hardwareInterface>EffortJointInterface</hardwareInterface>
    </joint>
    <actuator name="motor3">
      <hardwareInterface>EffortJointInterface</hardwareInterface>
      <mechanicalReduction>1</mechanicalReduction>
    </actuator>
  </transmission>
  <transmission name="tran4">
    <type>transmission_interface/SimpleTransmission</type>
    <joint name="roll_jointcastlewheelRF">
      <hardwareInterface>EffortJointInterface</hardwareInterface>
    </joint>
    <actuator name="motor4">
      <hardwareInterface>EffortJointInterface</hardwareInterface>
      <mechanicalReduction>1</mechanicalReduction>
    </actuator>
  </transmission>
  <transmission name="tran5">
    <type>transmission_interface/SimpleTransmission</type>
    <joint name="roll_jointmiddlecastleLF">
      <hardwareInterface>EffortJointInterface</hardwareInterface>
    </joint>
    <actuator name="motor5">
      <hardwareInterface>EffortJointInterface</hardwareInterface>
      <mechanicalReduction>1</mechanicalReduction>
    </actuator>
  </transmission>
  <transmission name="tran6">
    <type>transmission_interface/SimpleTransmission</type>
    <joint name="roll_jointcastlewheelLF">
      <hardwareInterface>EffortJointInterface</hardwareInterface>
    </joint>
    <actuator name="motor6">
      <hardwareInterface>EffortJointInterface</hardwareInterface>
      <mechanicalReduction>1</mechanicalReduction>
    </actuator>
  </transmission>
  <transmission name="tran7">
    <type>transmission_interface/SimpleTransmission</type>
    <joint name="roll_jointmiddlecastleLB">
      <hardwareInterface>EffortJointInterface</hardwareInterface>
    </joint>
    <actuator name="motor7">
      <hardwareInterface>EffortJointInterface</hardwareInterface>
      <mechanicalReduction>1</mechanicalReduction>
    </actuator>
  </transmission>
  <transmission name="tran8">
    <type>transmission_interface/SimpleTransmission</type>
    <joint name="roll_jointcastlewheelLB">
      <hardwareInterface>EffortJointInterface</hardwareInterface>
    </joint>
    <actuator name="motor8">
      <hardwareInterface>EffortJointInterface</hardwareInterface>
      <mechanicalReduction>1</mechanicalReduction>
    </actuator>
  </transmission>
   <transmission name="tran9">
    <type>transmission_interface/SimpleTransmission</type>
    <joint name="roll_jointmiddlecastleRB">
      <hardwareInterface>EffortJointInterface</hardwareInterface>
    </joint>
    <actuator name="motor9">
      <hardwareInterface>EffortJointInterface</hardwareInterface>
      <mechanicalReduction>1</mechanicalReduction>
    </actuator>
  </transmission>
  <transmission name="tran10">
    <type>transmission_interface/SimpleTransmission</type>
    <joint name="roll_jointcastlewheelRB">
      <hardwareInterface>EffortJointInterface</hardwareInterface>
    </joint>
    <actuator name="motor10">
      <hardwareInterface>EffortJointInterface</hardwareInterface>
      <mechanicalReduction>1</mechanicalReduction>
    </actuator>
  </transmission>


</robot>
